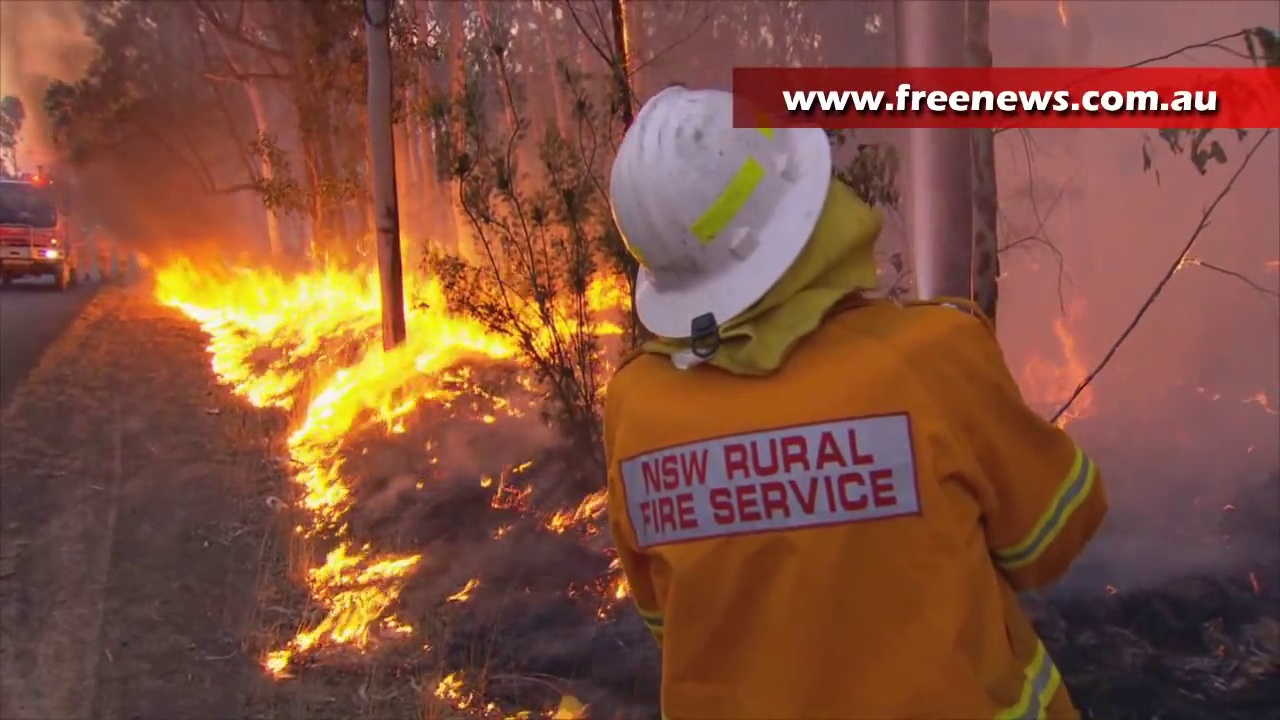fire: (289, 344, 452, 503), (155, 242, 377, 327), (404, 268, 630, 341), (289, 544, 419, 651), (207, 325, 289, 405), (1026, 357, 1094, 416), (577, 489, 605, 517), (440, 674, 458, 701)
